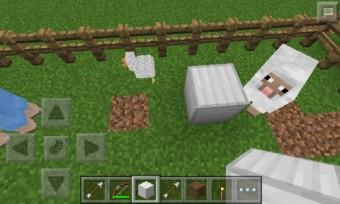chicken: (120, 51, 158, 85)
sheep: (241, 43, 320, 117)
